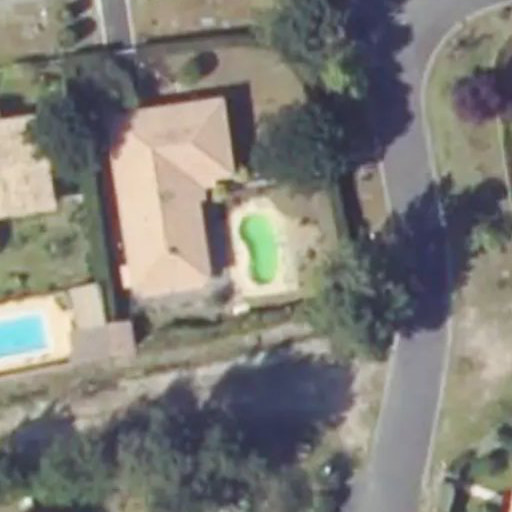pool: (231, 209, 284, 272)
